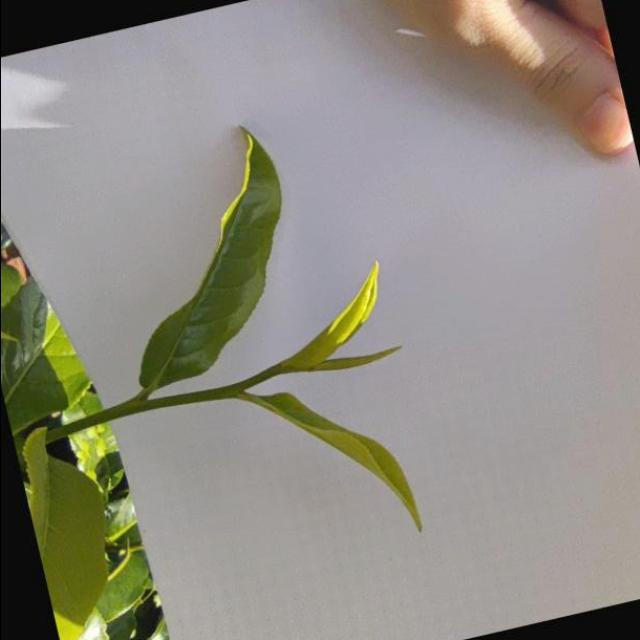Stem: (225, 385, 242, 397)
